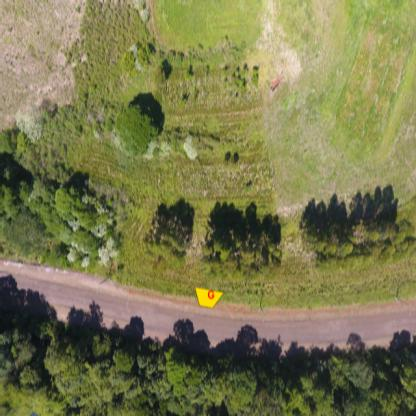G: (207, 288, 215, 302)
trapezium: (194, 284, 225, 308)
